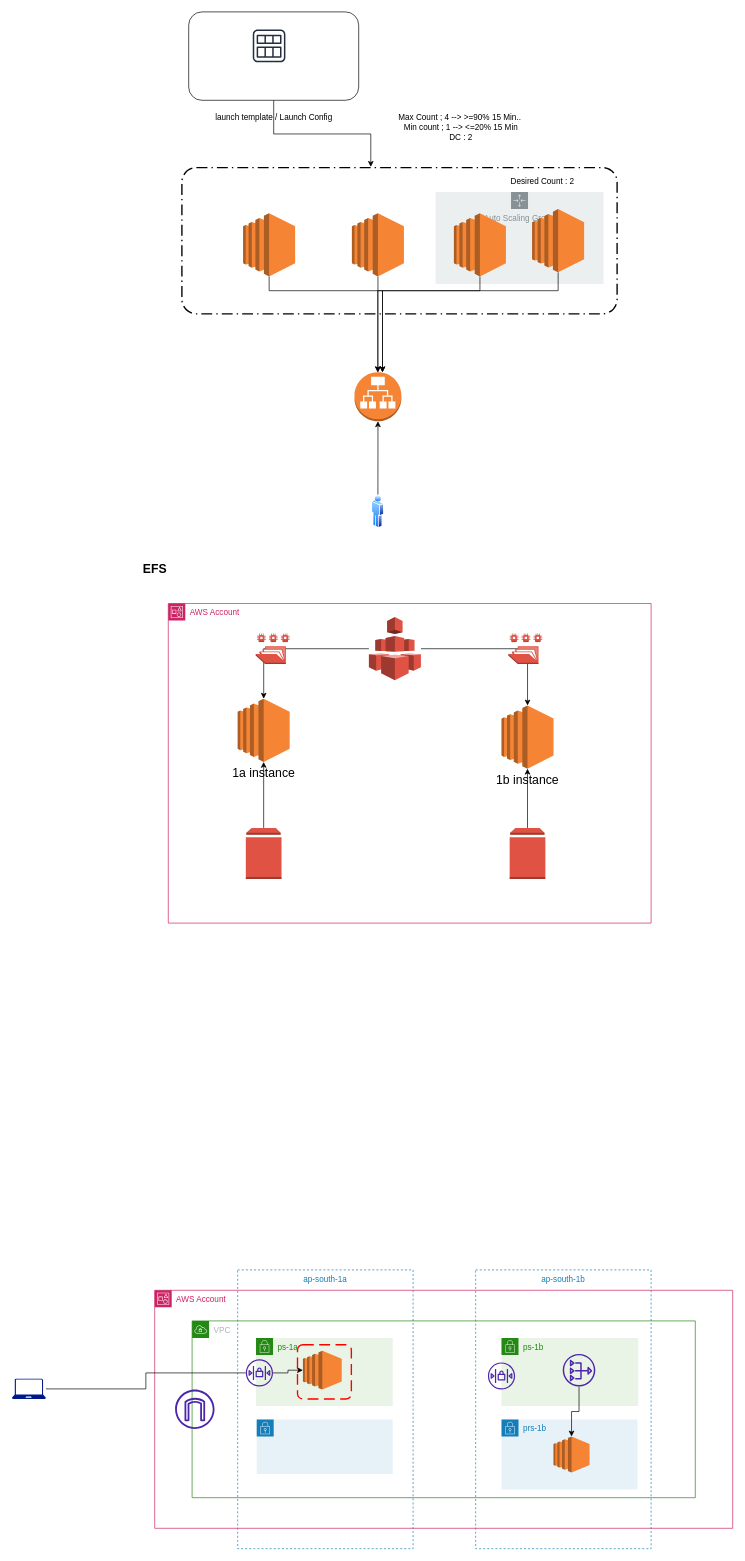
Image size: 745x1561. Some labels were removed from this diagram. Each missing label, with the centre of its shape:
AMI7 Instance type, SG: (x=268, y=45)
EFS NFS v4.1: (x=394, y=648)
Jump Server / BH: (x=322, y=1370)
NAT gateway: (x=578, y=1370)
prs-1a: (x=324, y=1446)
